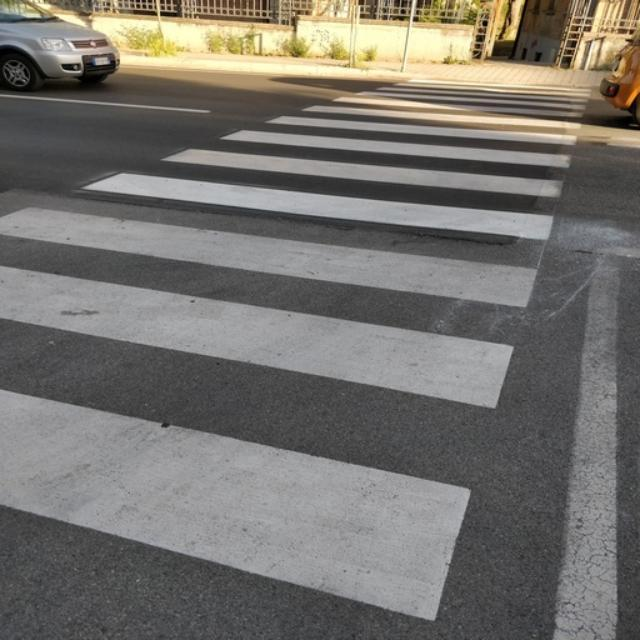sidewalk: (0, 83, 584, 640)
